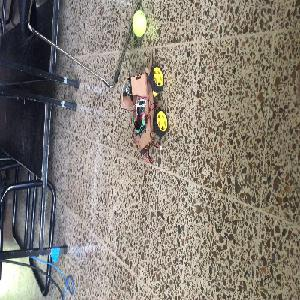Ball: (132, 11, 147, 37)
Robot: (120, 52, 168, 157)
